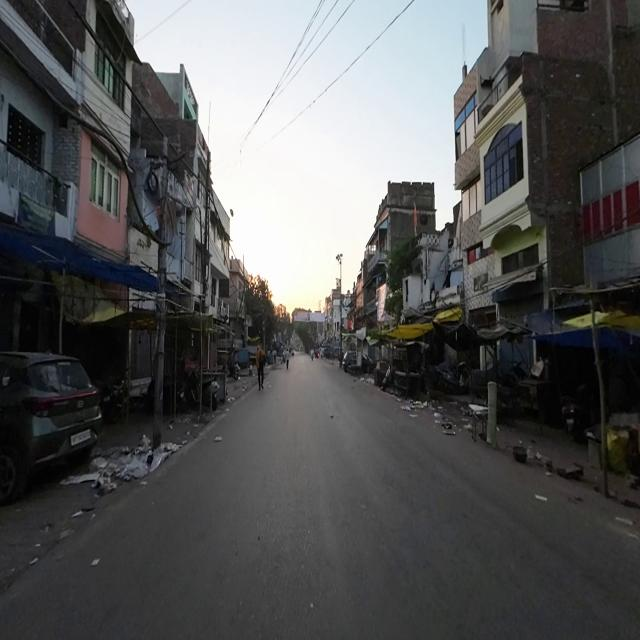Garbage: (93, 440, 165, 486), (400, 396, 425, 418)
